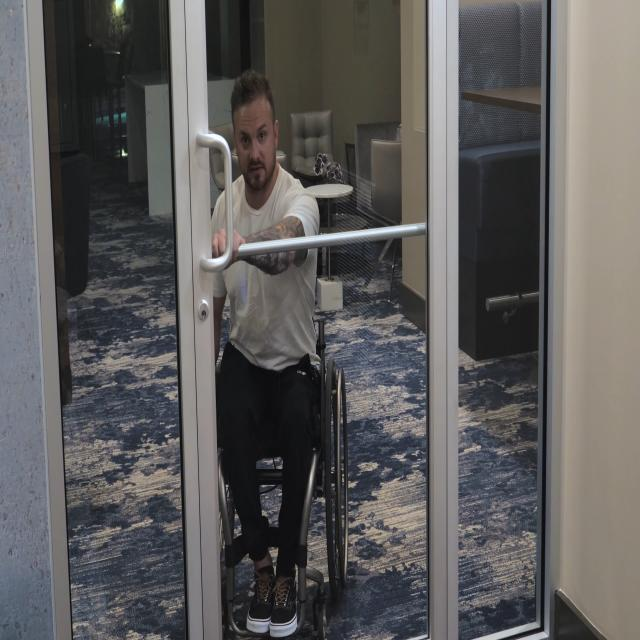wheelchairs: (202, 269, 354, 640)
